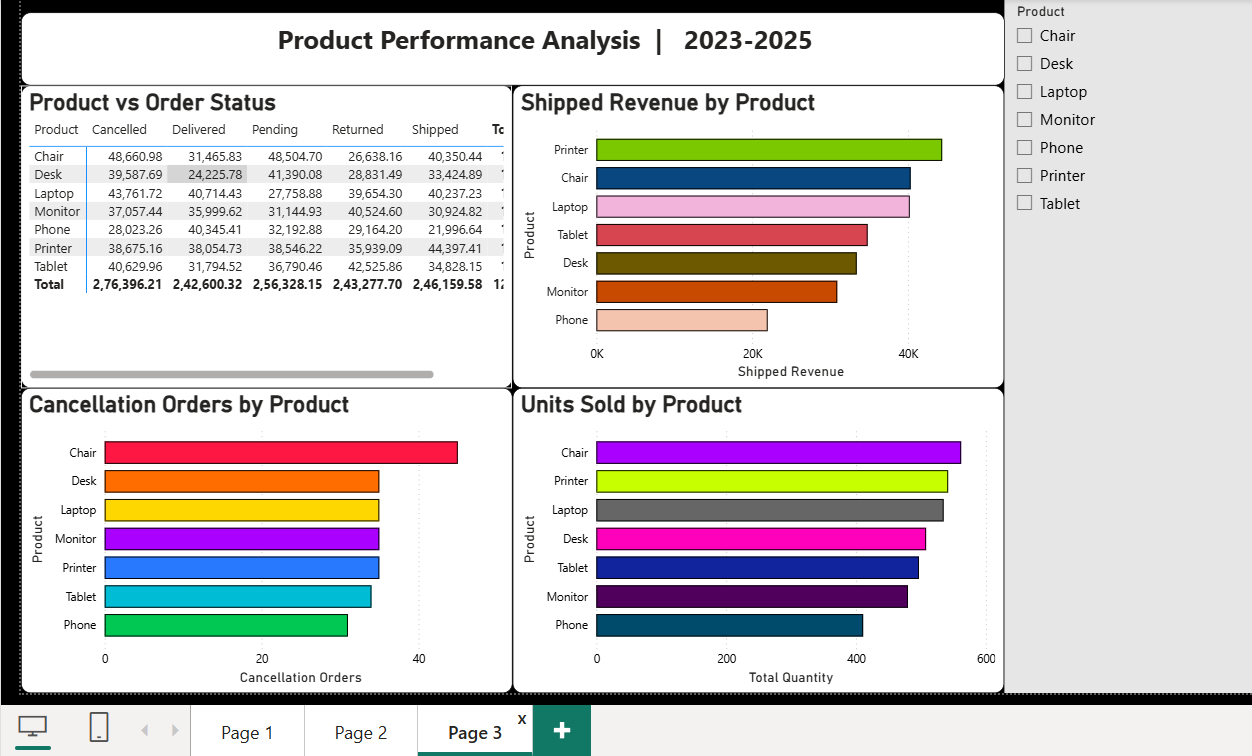

This screenshot's page, from the dashboard's own definition file:
{"tool":"powerbi","page":{"name":"Page 3","canvas":[1280,720],"ordinal":2},"visuals":[{"type":"pivotTable","title":"Product vs Order Status","fields":{"Rows":["Fact Table.Product"],"Columns":["Fact Table.OrderStatus"],"Values":["Fact Table.Total Revenue"]},"box":[0,89.7,510.2,313.9],"z":0},{"type":"clusteredBarChart","title":"Units Sold by Product","fields":{"Category":["Fact Table.Product"],"Y":["Fact Table.Total Quantity"]},"box":[510.2,403.6,510.2,317],"z":1000},{"type":"clusteredBarChart","fields":{"Category":["Fact Table.Product"],"Y":["Fact Table.Cancellation Orders"]},"box":[0,403.6,510.2,317],"z":2000},{"type":"clusteredBarChart","fields":{"Category":["Fact Table.Product"],"Y":["Fact Table.Shipped Revenue"]},"box":[510.2,89.7,510.2,313.9],"z":3000},{"type":"slicer","fields":{"Values":["Fact Table.Product"]},"box":[1020.5,0,259.8,720.5],"z":4000},{"type":"textbox","box":[0,13.9,1020.5,75.8],"z":6000}]}

Visuals, with their boxes in screenshot pixels (x1, y1, x2, y2):
"Product vs Order Status" pivotTable: BBox(16, 83, 508, 386)
"Units Sold by Product" clusteredBarChart: BBox(508, 386, 1001, 692)
clusteredBarChart - Fact Table.Product x Fact Table.Cancellation Orders: BBox(16, 386, 508, 692)
clusteredBarChart - Fact Table.Product x Fact Table.Shipped Revenue: BBox(508, 83, 1001, 386)
slicer - Fact Table.Product: BBox(1001, 0, 1251, 692)
textbox: BBox(16, 10, 1001, 83)
